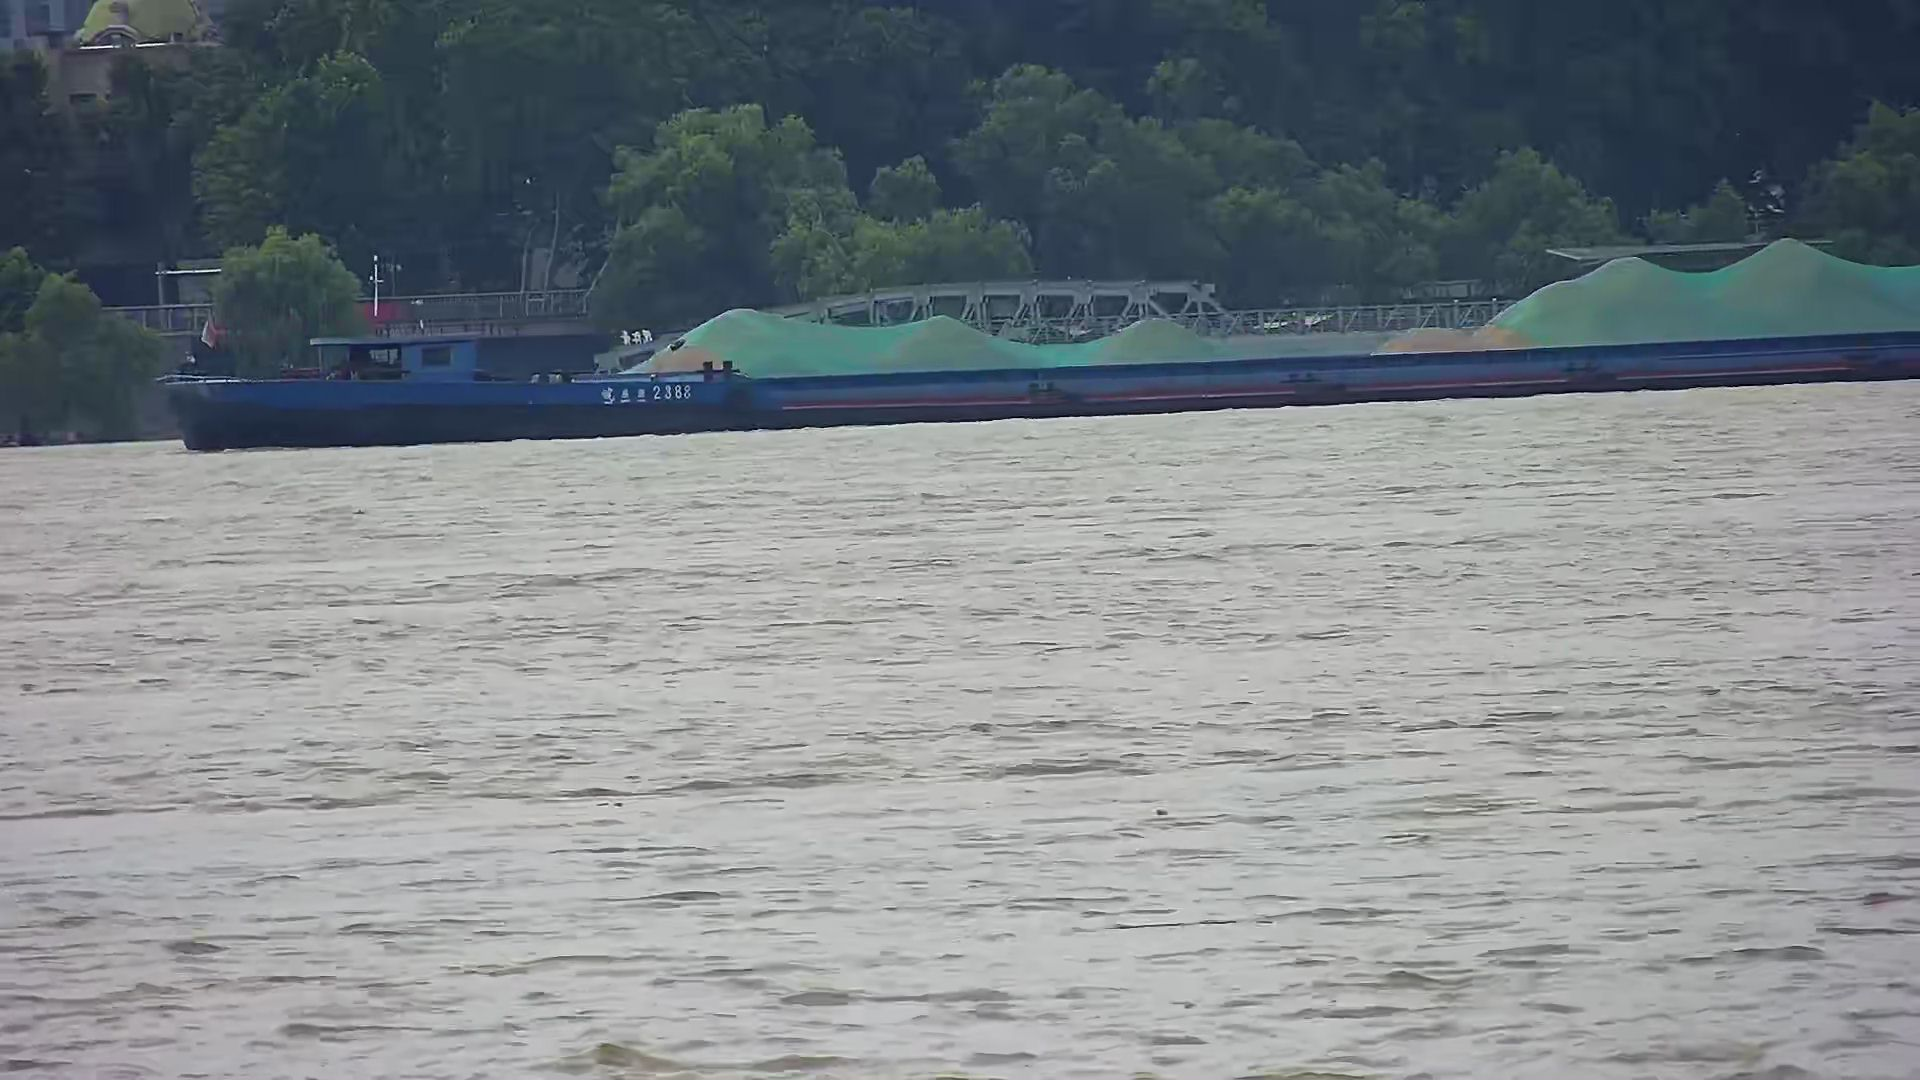ship: (167, 251, 1919, 452)
